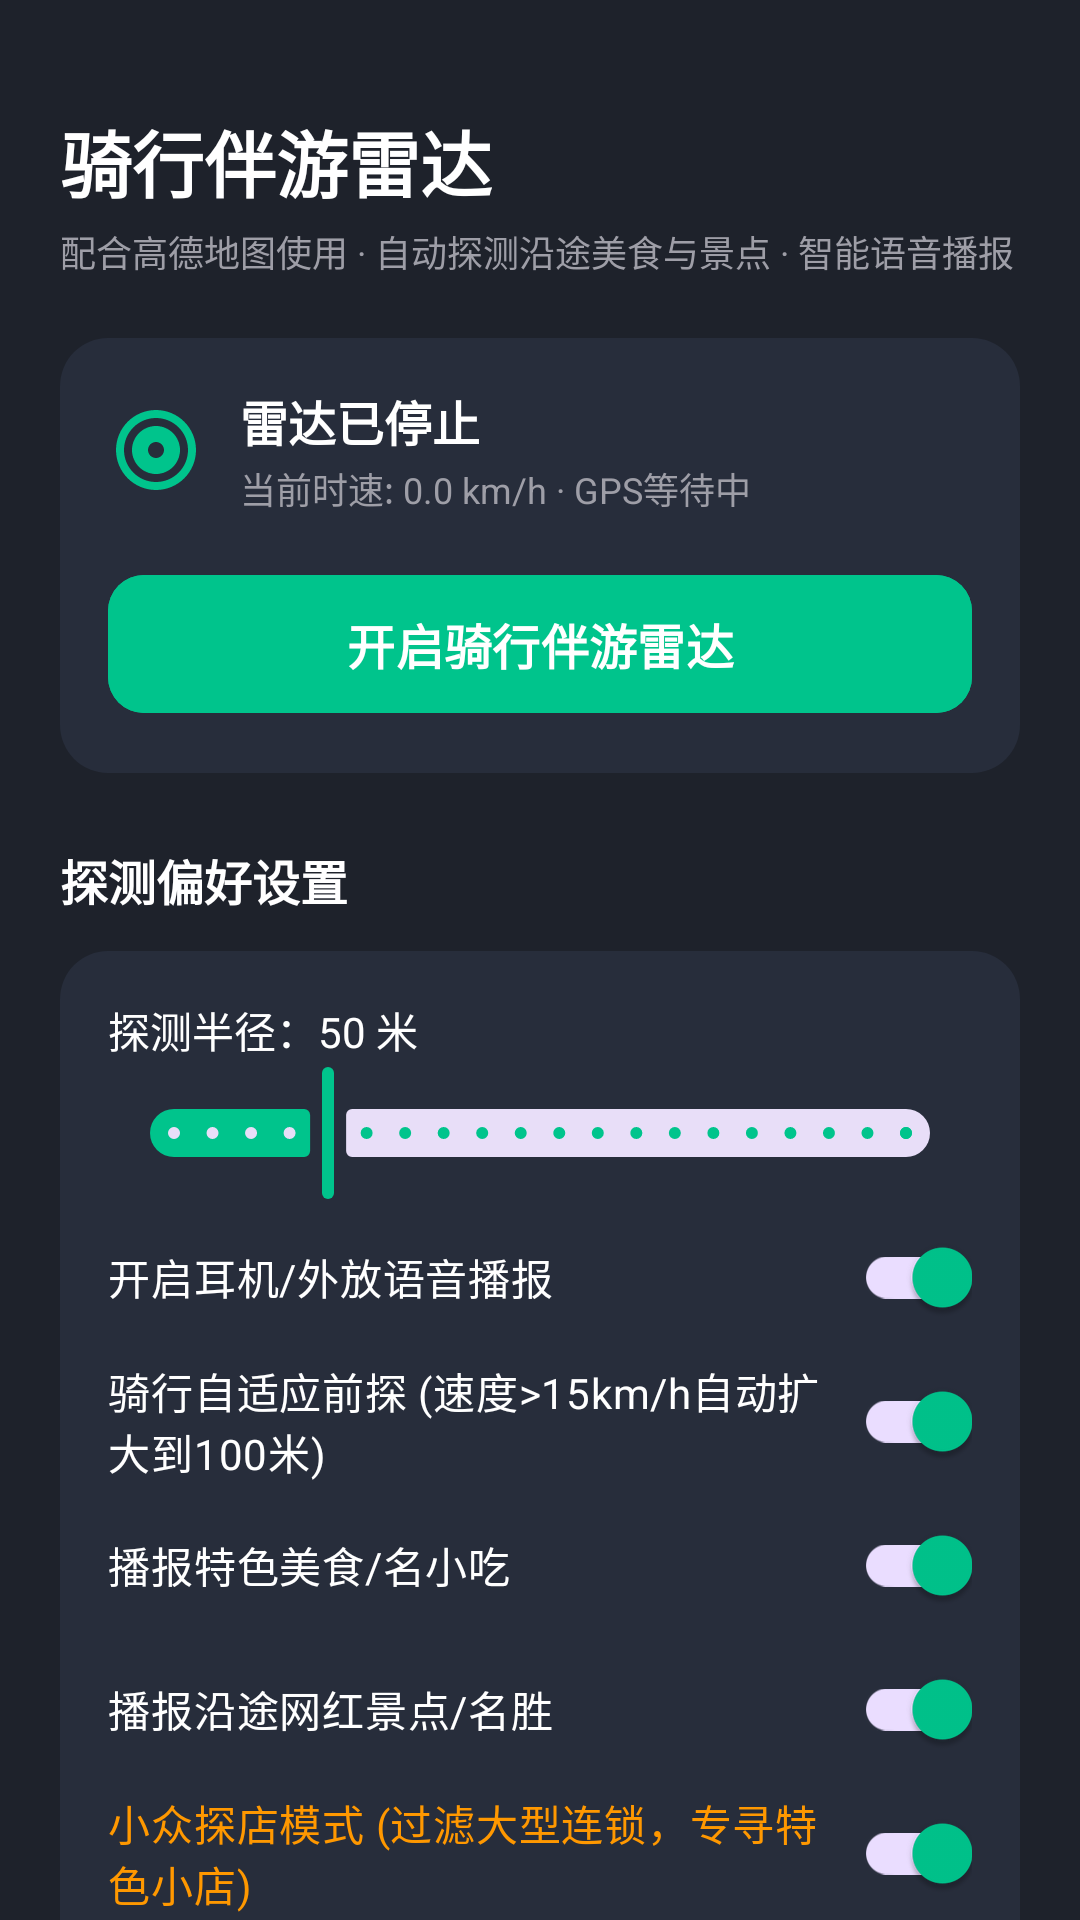

Named icons in this screenshot (1080px x 1920px) and their centers, point (x, y):
radar: point (156, 450)
